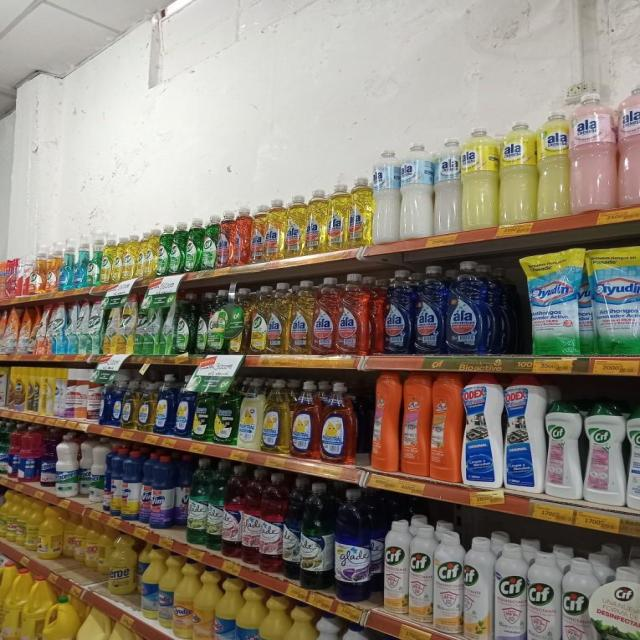ala_conc_amarillo: (290, 279, 312, 355), (349, 175, 372, 247), (328, 180, 349, 251), (306, 187, 328, 254), (268, 282, 288, 354), (266, 197, 286, 260), (286, 193, 305, 258), (250, 202, 266, 264)
ala_conc_azul: (446, 260, 494, 356), (414, 265, 445, 355), (383, 268, 413, 356)
ala_conc_rojo: (337, 274, 370, 355), (313, 276, 336, 356), (234, 204, 250, 265), (218, 210, 234, 267)
ala_crem_amarillo: (499, 119, 536, 224), (462, 127, 498, 230), (538, 110, 570, 218)
ala_crem_blanco: (400, 140, 433, 238), (434, 136, 462, 234), (374, 145, 399, 243)
ala_crem_rosado: (570, 90, 616, 212), (618, 81, 640, 208)
cif_conc_bot_amarilla: (249, 285, 267, 354), (138, 226, 154, 278), (123, 231, 136, 280), (103, 235, 115, 284), (112, 235, 121, 283)
cif_conc_botella_verde: (207, 288, 226, 354), (175, 292, 192, 354), (184, 217, 201, 272), (201, 214, 217, 270), (195, 290, 207, 354), (168, 220, 182, 274), (155, 222, 168, 276)
cif_conc_sachet_amarillo: (118, 294, 134, 354), (106, 294, 120, 354)
cif_conc_sachet_verde: (136, 291, 160, 355)
magistral_con_amarillo: (262, 378, 290, 454), (138, 380, 154, 431), (122, 379, 137, 429)
magistral_con_azul: (155, 374, 174, 434), (175, 376, 192, 437), (110, 378, 122, 427)
magistral_con_crema: (238, 379, 261, 450)
magistral_con_rojo: (321, 381, 357, 464), (291, 379, 319, 459)
magistral_con_verde: (214, 383, 236, 447), (193, 390, 213, 442)
